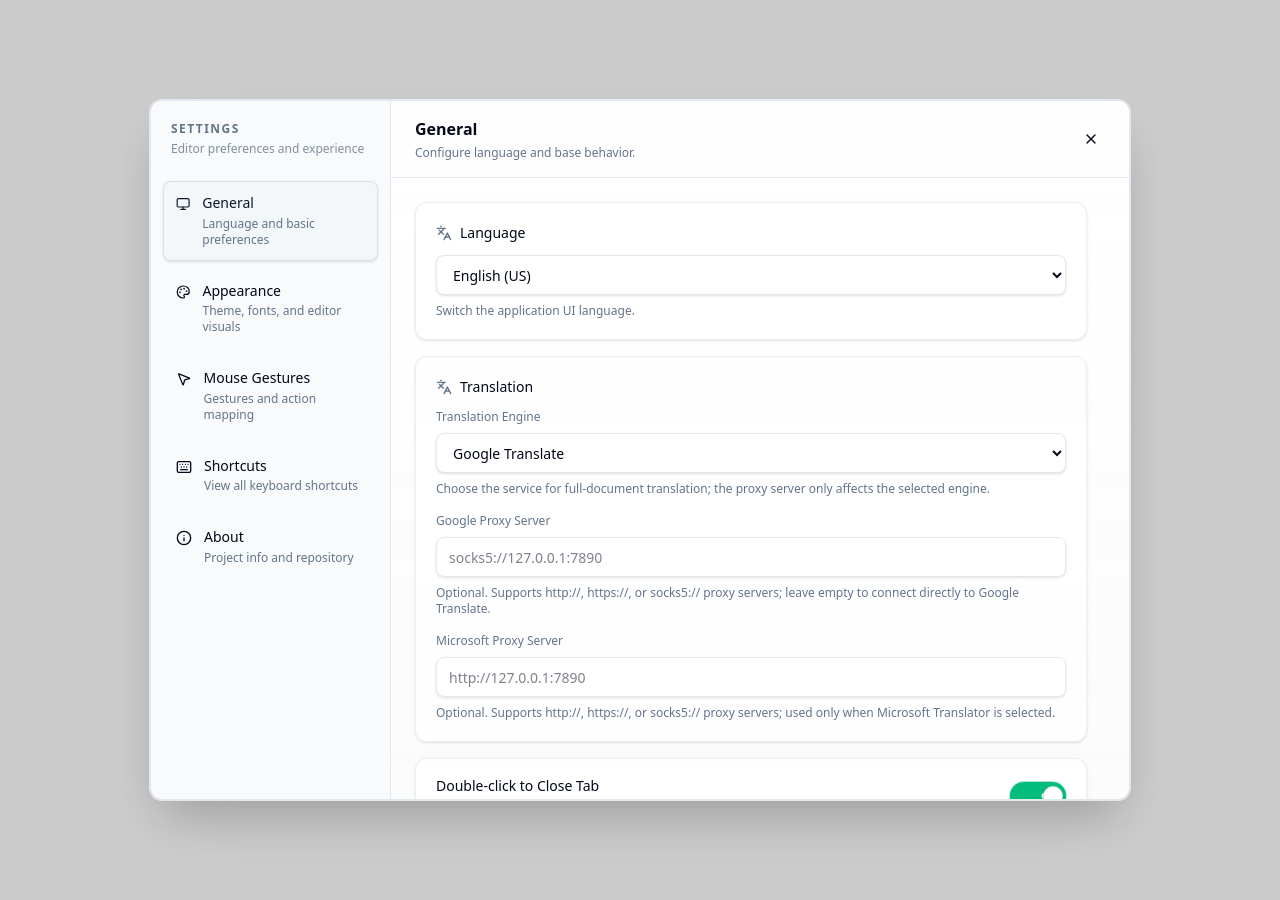
Test: SettingsModal › toggles mouse gesture section visibility with switch state
Click the text "Mouse Gestures".
click(257, 378)  # box [204,368,310,387]
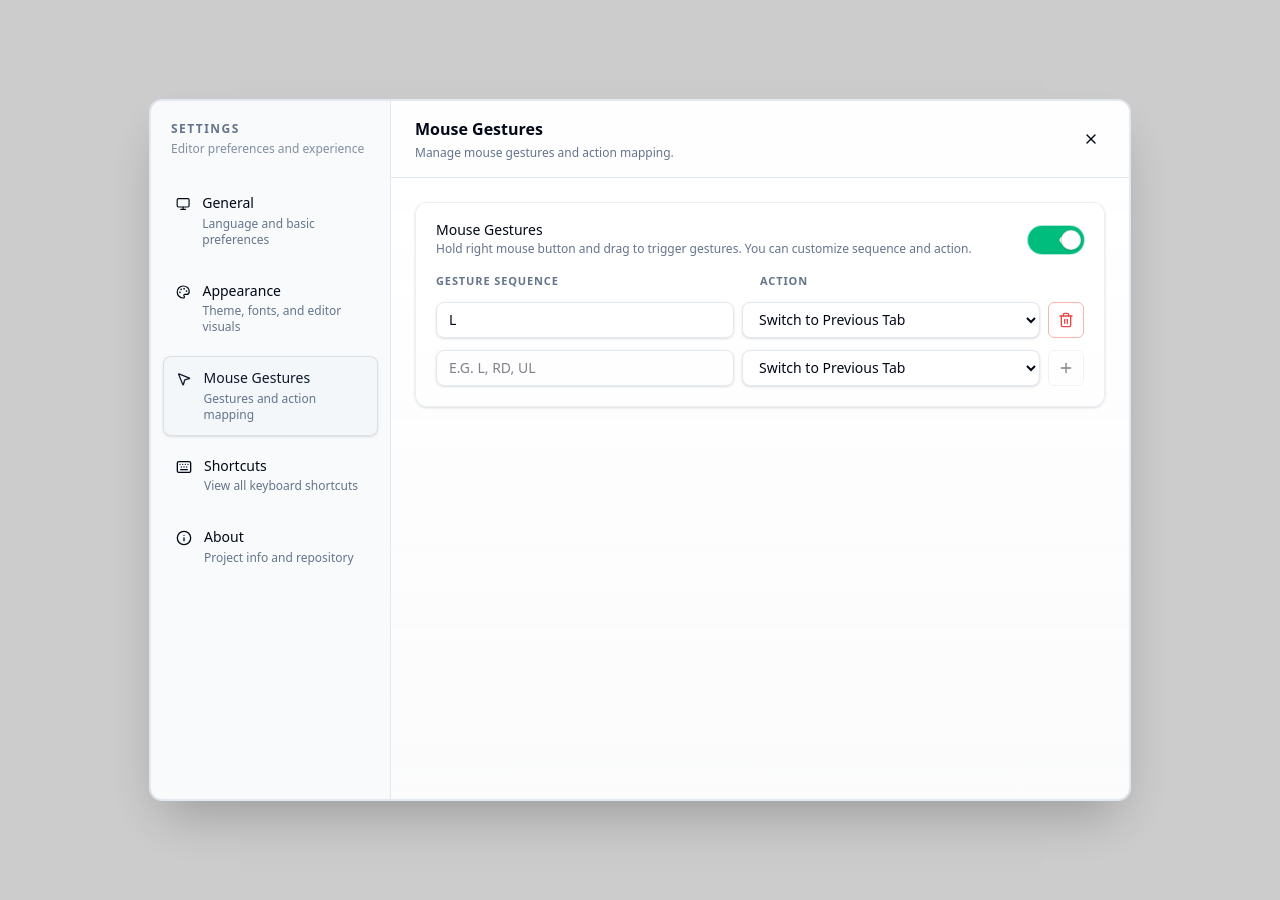
Check: the field showing "L" is shown, box [436,302,734,338]
Click the button with aria-label "Mouse Gestures".
click(1056, 240)  # box [1028,226,1084,254]
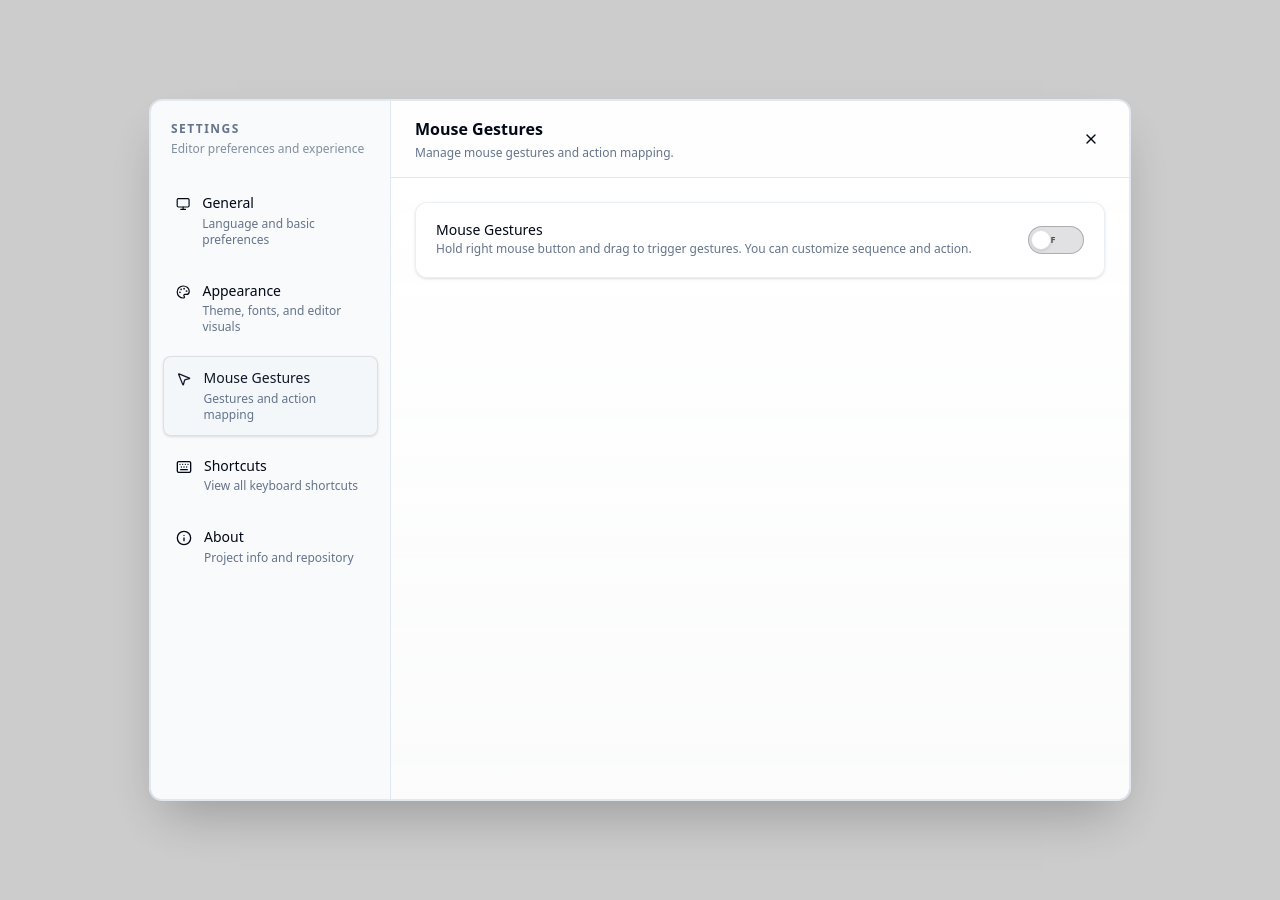
Click the button with aria-label "Mouse Gestures".
click(1056, 240)  # box [1028,226,1084,254]
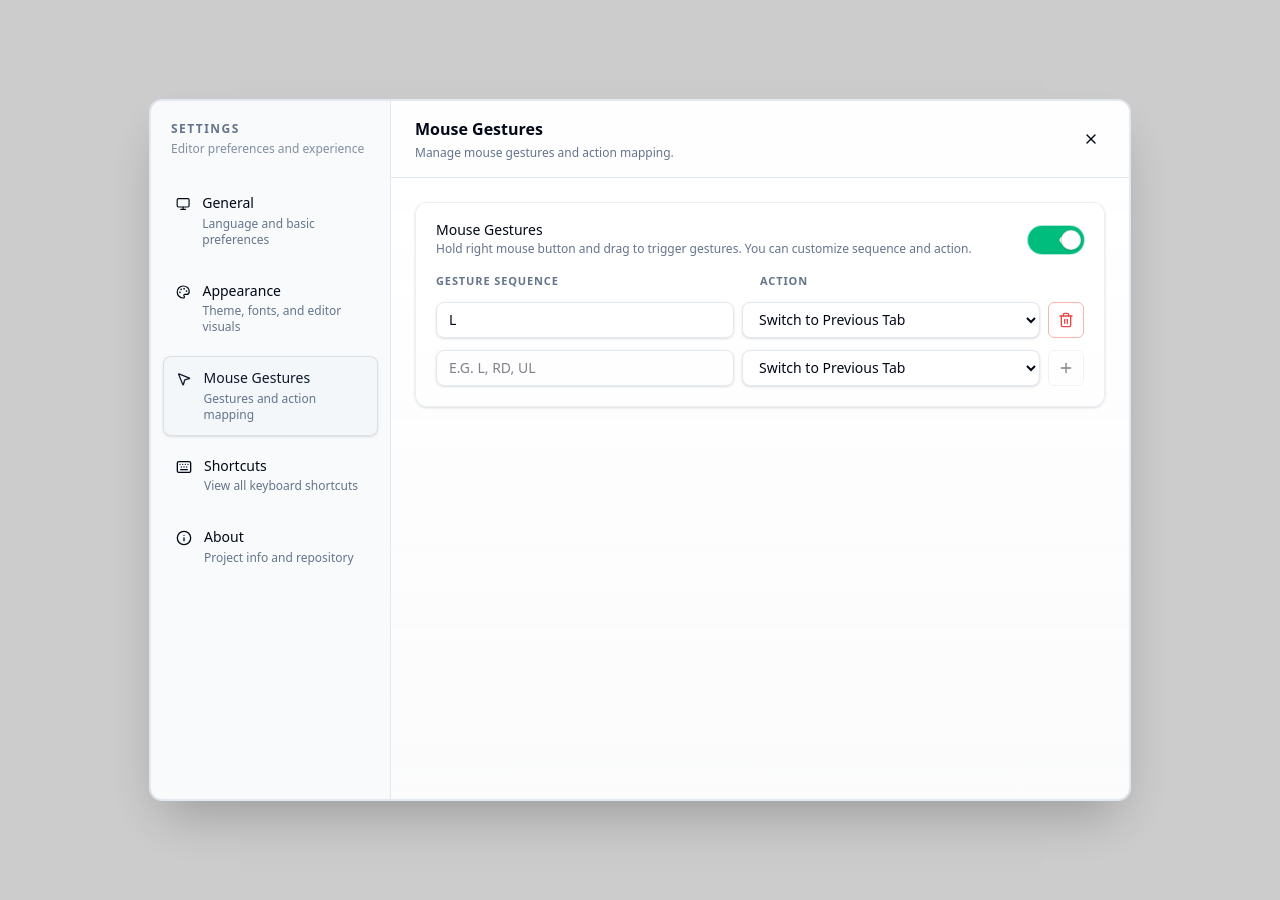
Check: the field showing "L" is shown, box [436,302,734,338]
